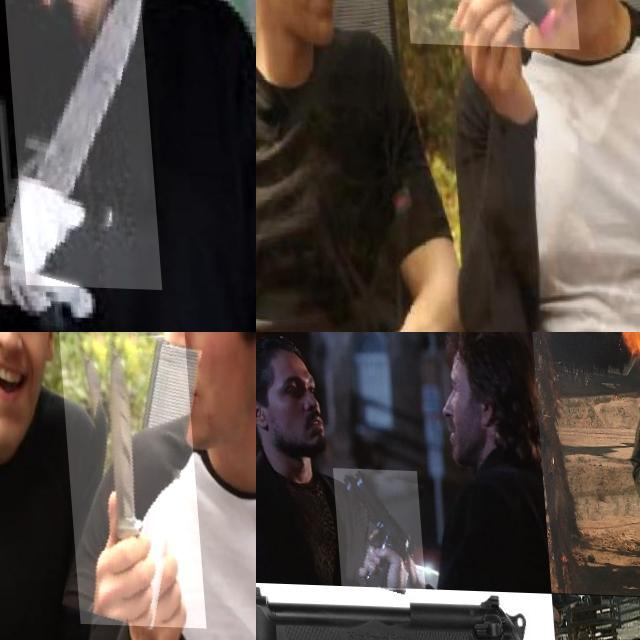-: (0, 0, 154, 287), (55, 332, 198, 625), (397, 0, 574, 77)
gun-knife-thesis - v11 Yolov5 augmented: (330, 468, 421, 590)
